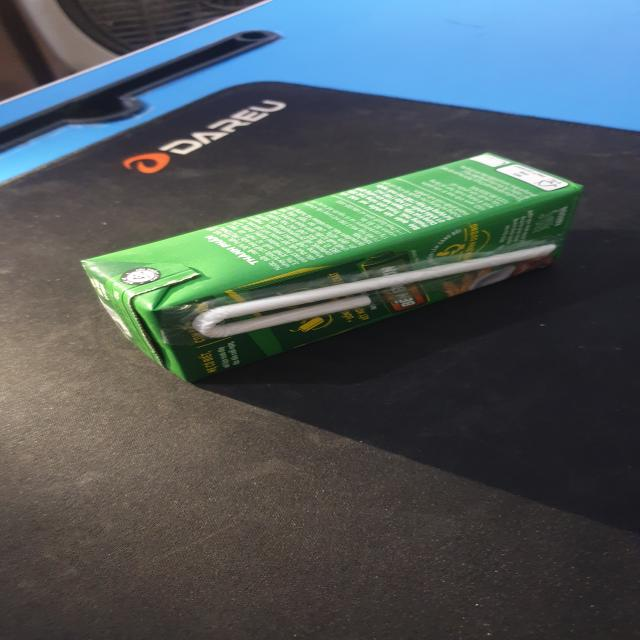Milo: (78, 151, 588, 387)
